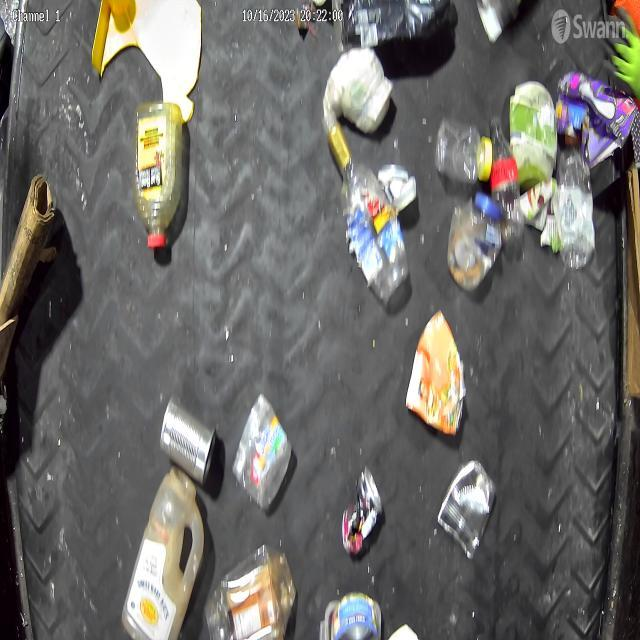can: (438, 458, 497, 562), (160, 396, 218, 486), (341, 466, 384, 555)
non_white_jug: (121, 465, 205, 640)
plastic_bottle: (326, 120, 410, 304), (488, 113, 526, 244), (558, 149, 596, 270)
